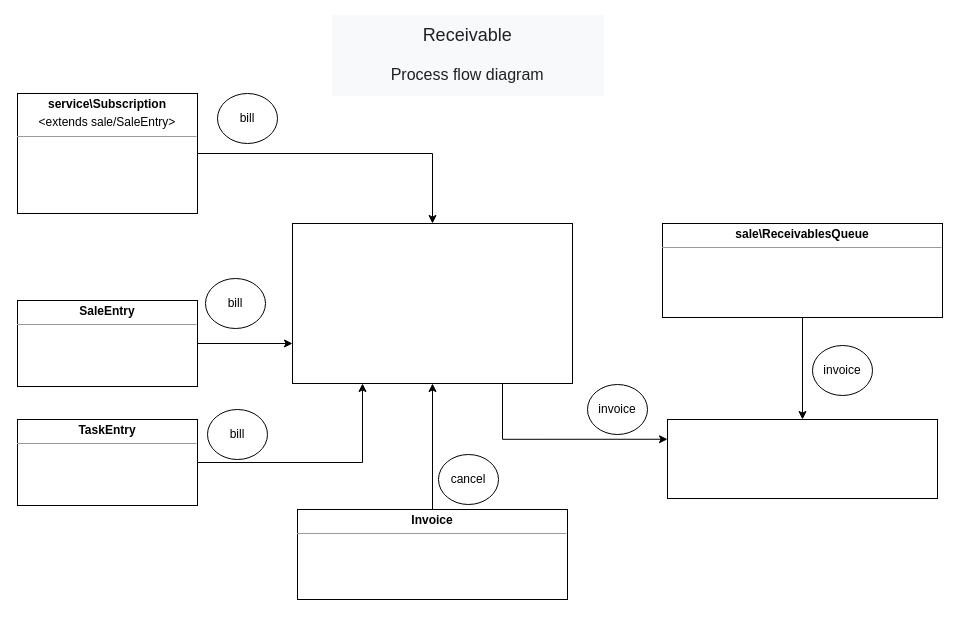
Some shapes in this 960 by 617 pixel diagram are drawn without their labels. The shapes that lost their labels are listed below. From the top down, each one's box as (x1, y1, x2, y2) in pixels, then its label:
(292, 222, 572, 384): Receivable
(666, 418, 938, 498): InvoiceLine
